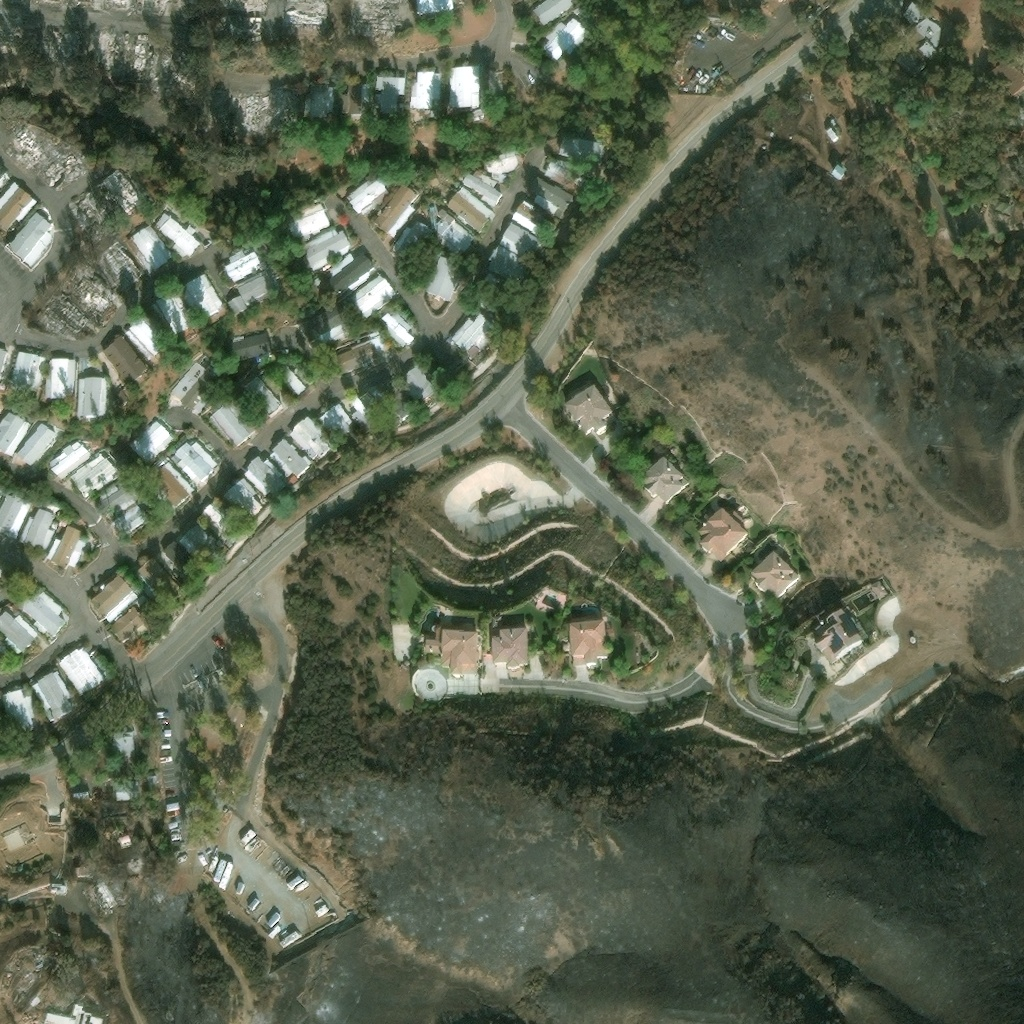0 no-damage: (104, 313, 173, 386), (170, 359, 226, 419), (698, 506, 750, 564), (565, 378, 615, 436), (170, 436, 223, 490), (8, 212, 58, 267), (148, 457, 198, 512), (371, 181, 418, 239), (638, 454, 691, 505), (450, 307, 500, 360), (425, 626, 480, 674), (57, 644, 108, 695), (750, 549, 802, 599), (70, 450, 121, 500), (20, 586, 68, 639), (154, 210, 202, 262), (208, 398, 259, 446), (817, 608, 862, 662), (448, 186, 497, 235), (91, 574, 140, 623), (32, 667, 75, 722), (128, 418, 177, 466), (541, 17, 590, 64), (327, 249, 376, 296), (486, 243, 535, 290), (16, 420, 61, 471), (499, 220, 549, 265), (302, 228, 353, 272), (351, 272, 399, 318), (288, 414, 334, 462), (138, 555, 183, 604), (151, 291, 195, 341), (370, 375, 416, 422), (433, 206, 476, 256), (182, 272, 225, 322), (568, 620, 614, 665), (284, 198, 332, 241), (530, 176, 576, 220), (223, 476, 266, 523), (0, 181, 39, 232), (48, 438, 94, 481), (346, 174, 391, 216), (243, 374, 285, 419), (46, 524, 87, 569), (0, 609, 41, 654), (245, 455, 289, 496), (427, 254, 464, 302), (19, 506, 56, 553), (271, 437, 314, 477), (464, 170, 505, 211), (374, 74, 409, 121), (985, 56, 1023, 99), (11, 350, 47, 395), (0, 687, 36, 732), (318, 401, 358, 441), (392, 220, 431, 261), (0, 492, 32, 541), (45, 357, 82, 399), (0, 409, 32, 457), (448, 65, 482, 109), (493, 627, 530, 666), (236, 270, 276, 306), (75, 376, 107, 420), (99, 482, 137, 519), (400, 364, 436, 403), (338, 340, 379, 374), (179, 524, 215, 562), (110, 604, 146, 642), (383, 312, 418, 351), (224, 249, 262, 284), (114, 503, 151, 538), (411, 71, 443, 111), (914, 13, 949, 49), (340, 82, 371, 121), (235, 331, 274, 362), (532, 0, 575, 28), (485, 150, 521, 183), (314, 309, 347, 344), (199, 501, 230, 535), (340, 390, 370, 423), (278, 364, 308, 396), (513, 201, 544, 231), (163, 539, 191, 571), (898, 0, 928, 29), (413, 0, 456, 19), (115, 729, 136, 755), (227, 295, 249, 318), (0, 347, 12, 389), (46, 1009, 77, 1023), (918, 41, 938, 61), (0, 164, 12, 193), (830, 164, 848, 182), (117, 780, 134, 799), (871, 581, 888, 600), (51, 881, 69, 893), (116, 389, 129, 403), (473, 109, 486, 122), (89, 1012, 104, 1023), (1014, 111, 1023, 126), (77, 863, 89, 874), (0, 563, 6, 580), (148, 771, 157, 781), (291, 474, 299, 483), (315, 278, 322, 285), (805, 94, 813, 100), (911, 635, 917, 642), (563, 644, 569, 651), (0, 493, 4, 503), (35, 994, 40, 1000), (1005, 128, 1012, 132), (759, 607, 764, 612)
1 minor-damage: (128, 223, 174, 274), (304, 82, 338, 121), (118, 831, 134, 846), (72, 789, 90, 799)
3 destroyed: (96, 241, 146, 292), (97, 166, 145, 217), (70, 189, 117, 241), (37, 292, 90, 336), (7, 122, 52, 170), (39, 149, 88, 191), (87, 27, 122, 84), (232, 89, 272, 137), (73, 274, 114, 317), (123, 39, 158, 86), (203, 85, 237, 131), (283, 2, 326, 32), (354, 4, 398, 33), (38, 26, 76, 59), (225, 13, 265, 42), (271, 88, 297, 131), (157, 49, 185, 88), (84, 878, 114, 913), (232, 4, 266, 15), (106, 0, 138, 10), (150, 0, 171, 13), (0, 21, 10, 47), (369, 0, 398, 5), (73, 0, 95, 5), (131, 855, 141, 866), (176, 0, 186, 11), (299, 0, 325, 3), (105, 808, 113, 816), (44, 0, 62, 2), (16, 0, 28, 2)
